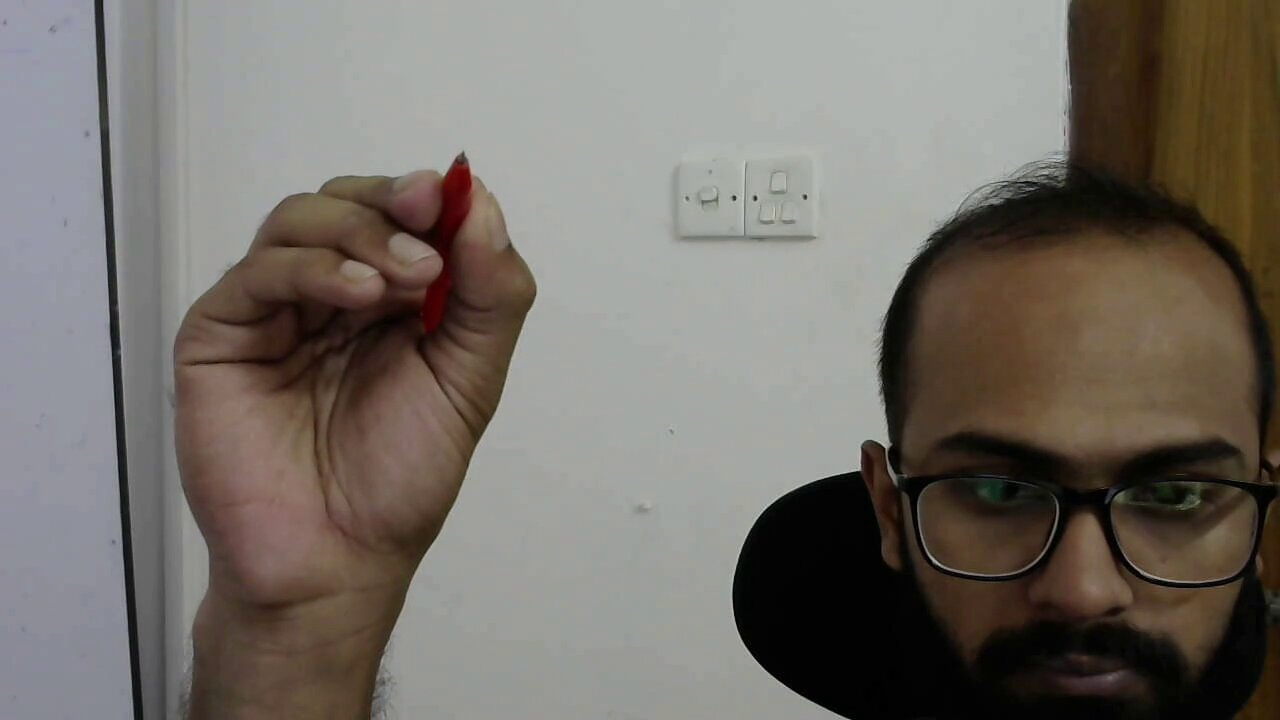pointer: (159, 157, 548, 529)
